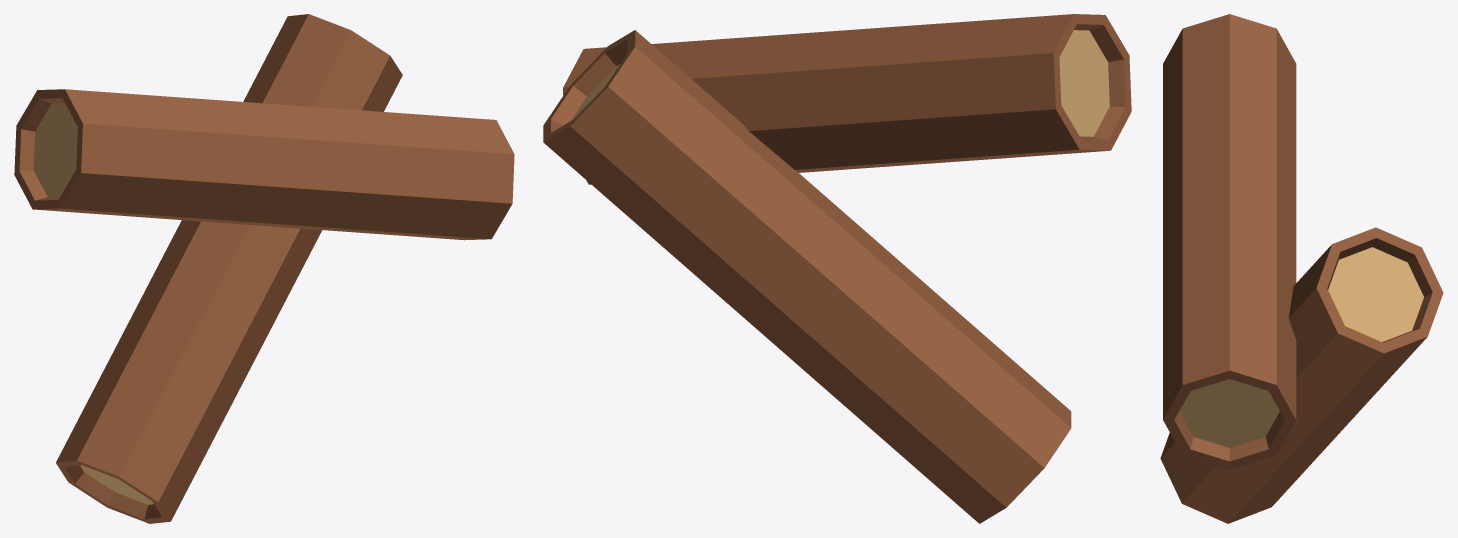
Rendered from SM_ResourceWood.FBX.
3 renders of one model, left to right at view 1: azimuth 30°, elevation 25°; view 2: azimuth 150°, elevation 25°; view 3: azimuth 270°, elevation 25°, orthographic. The views are drawn at different scales.
Visible parts, largest first — view 1: SM_Wood; view 2: SM_Wood; view 3: SM_Wood.
Part boxes in pixels (box(x1,y1,x2,y2)): SM_Wood: box(14, 14, 514, 523); SM_Wood: box(543, 14, 1131, 523); SM_Wood: box(1160, 14, 1443, 523).
Bounding box in the file's own units: 23.68 × 12.17 × 22.18.
